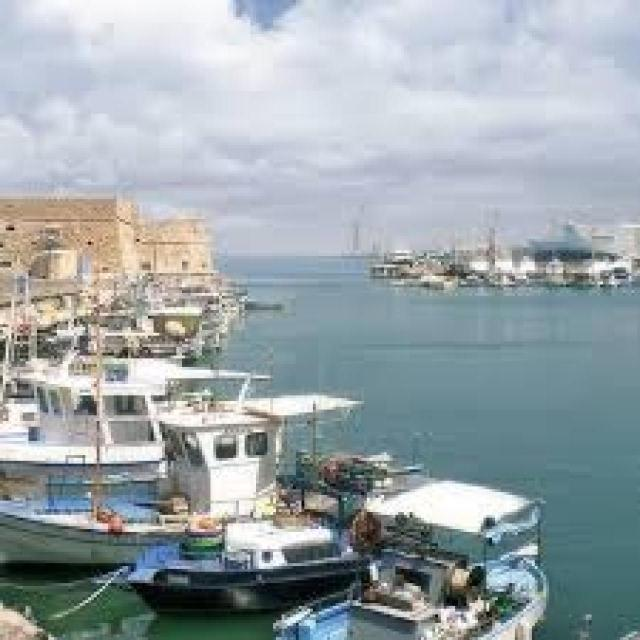Kules: (1, 194, 223, 280)
